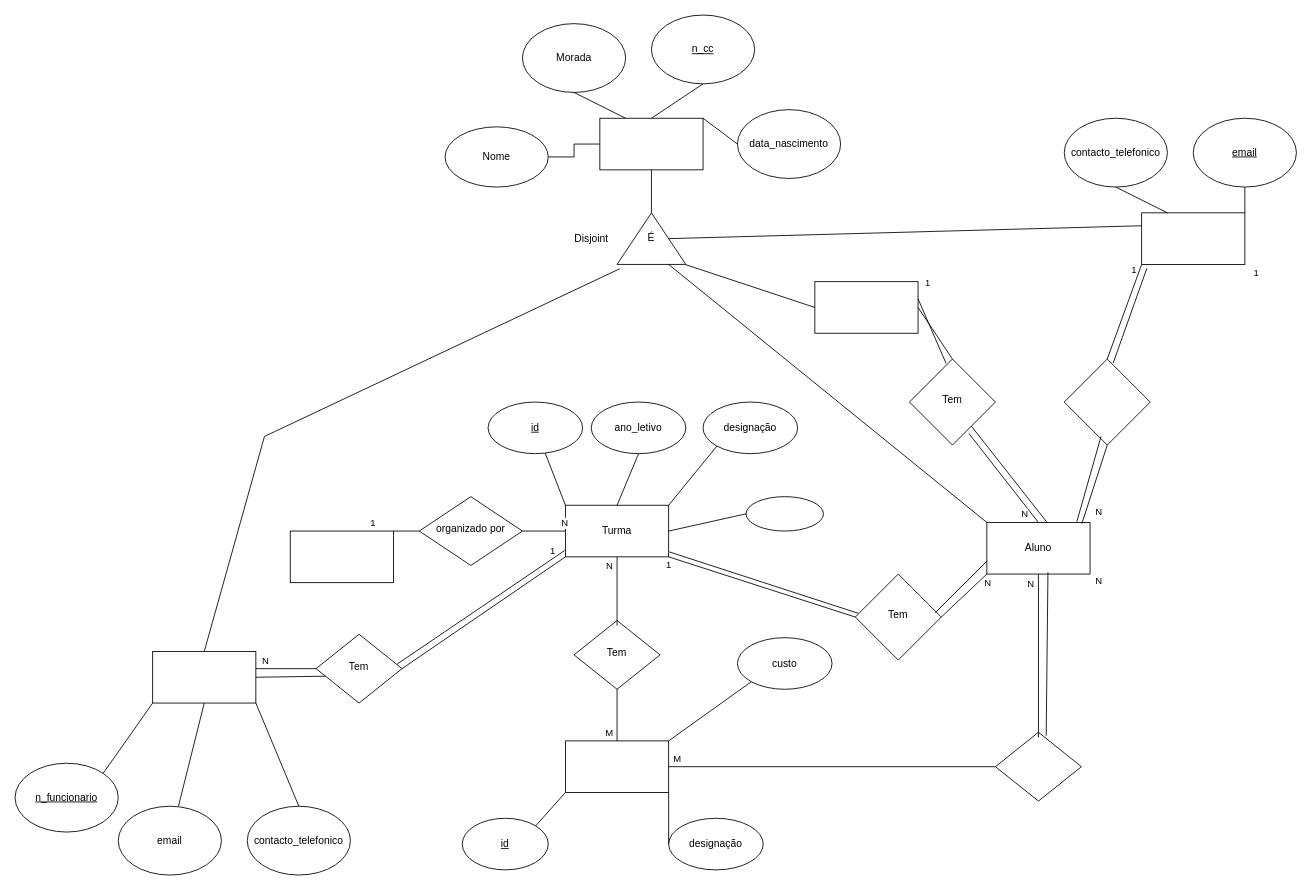
This 1312x890 diagram has some shape labels left out. Here are the shapes that lost their labels. From the top down, the centre of each, then its label:
At pixel 651 143: "Pessoa".
At pixel 1193 238: "Encarregado de Educação".
At pixel 866 307: "Pessoa c/ autorização".
At pixel 1106 401: "tipo de relacao".
At pixel 784 513: "n_max_alunos".
At pixel 341 556: "ATL".
At pixel 204 677: "Professor".
At pixel 617 766: "Atividades".
At pixel 1038 766: "Frequenta".
